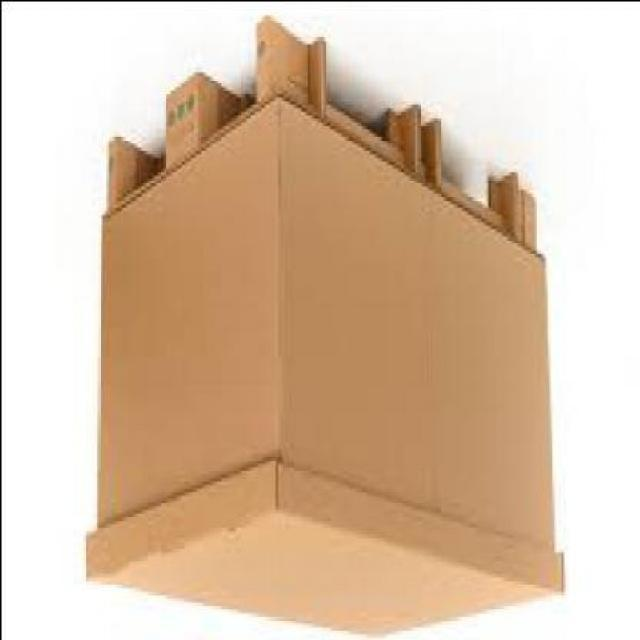box: (88, 100, 568, 637)
